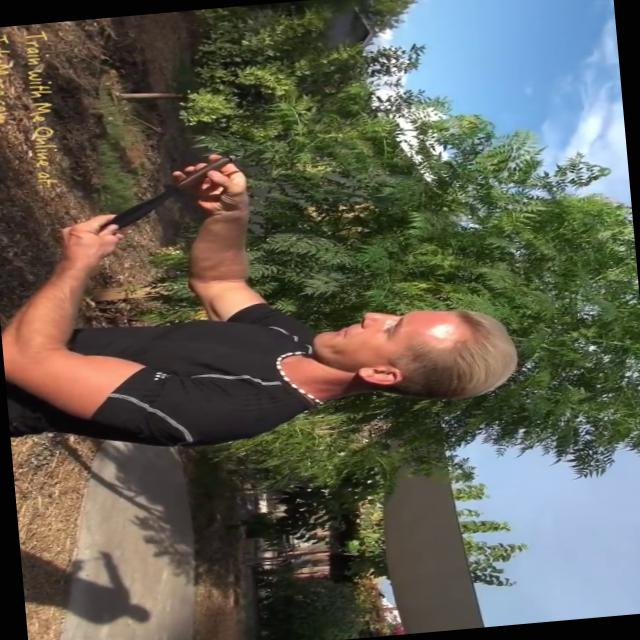knife: (77, 144, 260, 249)
